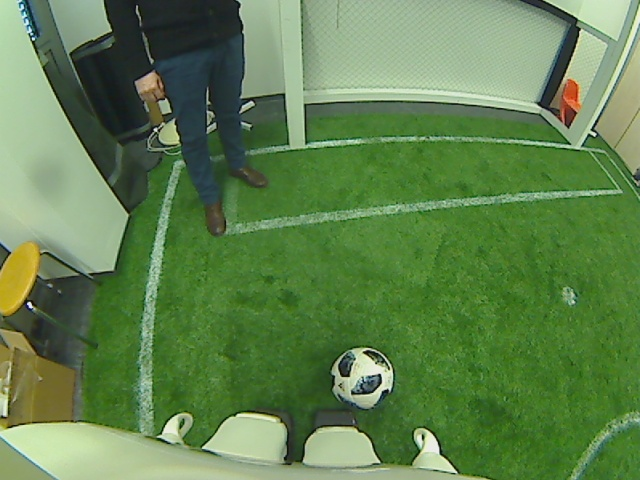ball: (326, 342, 394, 410)
